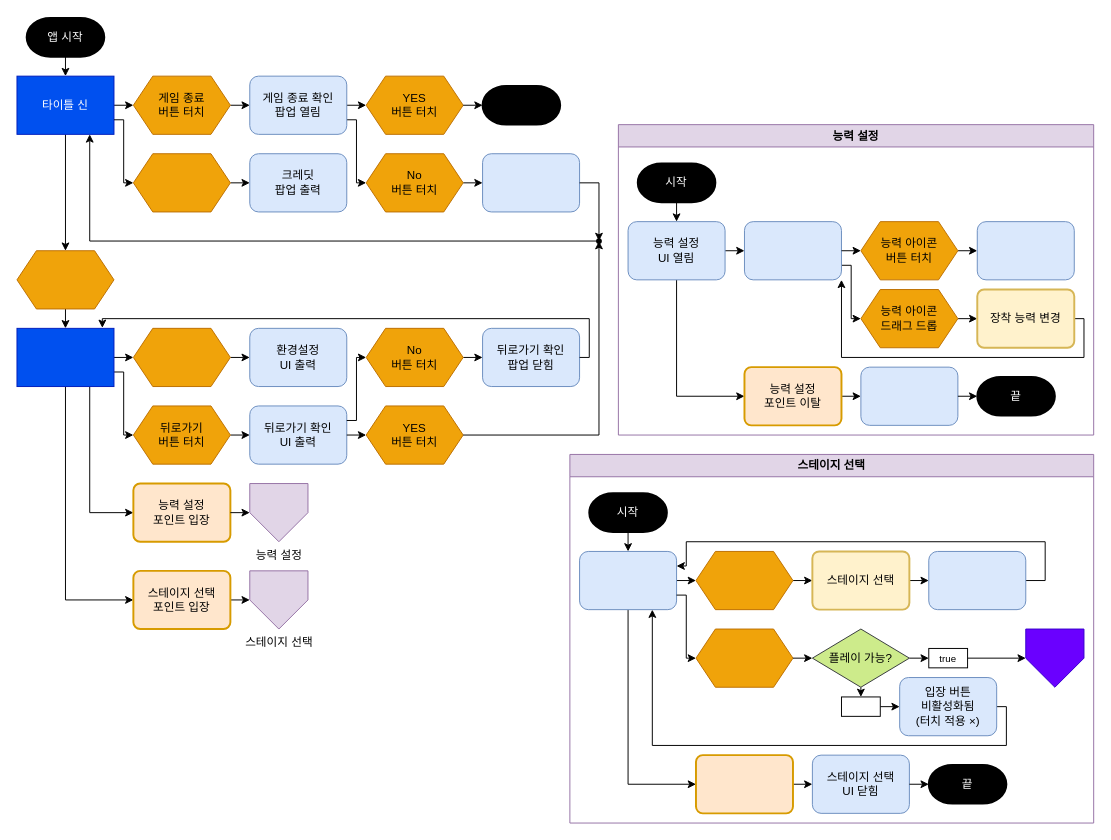
Image size: 1111x840. Some labels were removed from this diagram. Here are the shapes that lost their labels. From the top down, the box of each, then its label:
(481, 84, 561, 125): 앱 종료
(132, 153, 230, 212): 크레딧 버튼 터치
(482, 153, 580, 212): 게임 종료 확인 팝업 닫힘
(744, 221, 841, 280): 능력 리스트
(976, 221, 1074, 280): 능력 정보 UI 출력
(16, 250, 114, 309): 게임 시작 버튼 터치
(16, 327, 114, 387): 로비 신
(132, 327, 230, 387): 환경설정 버튼 터치
(860, 366, 958, 425): 능력 설정 UI 닫힘
(579, 550, 677, 610): 스테이지 선택 UI 출력
(695, 550, 793, 610): 스테이지 버튼 터치
(928, 550, 1026, 610): 선택한 스테이지 정보 출력
(695, 628, 793, 687): 입장 버튼 터치
(1025, 628, 1084, 687): 스테이지 진행
(841, 696, 880, 716): false
(695, 754, 793, 814): 스테이지 선택 포인트 이탈
